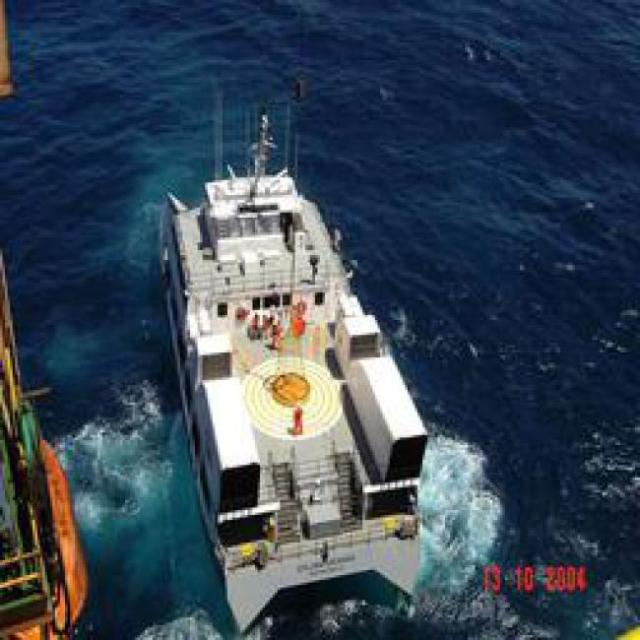boat: (133, 185, 442, 600)
